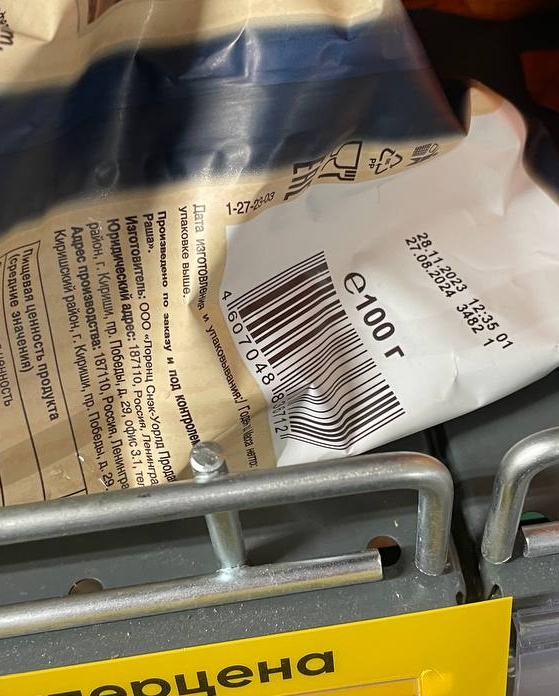1d: (229, 249, 407, 451)
